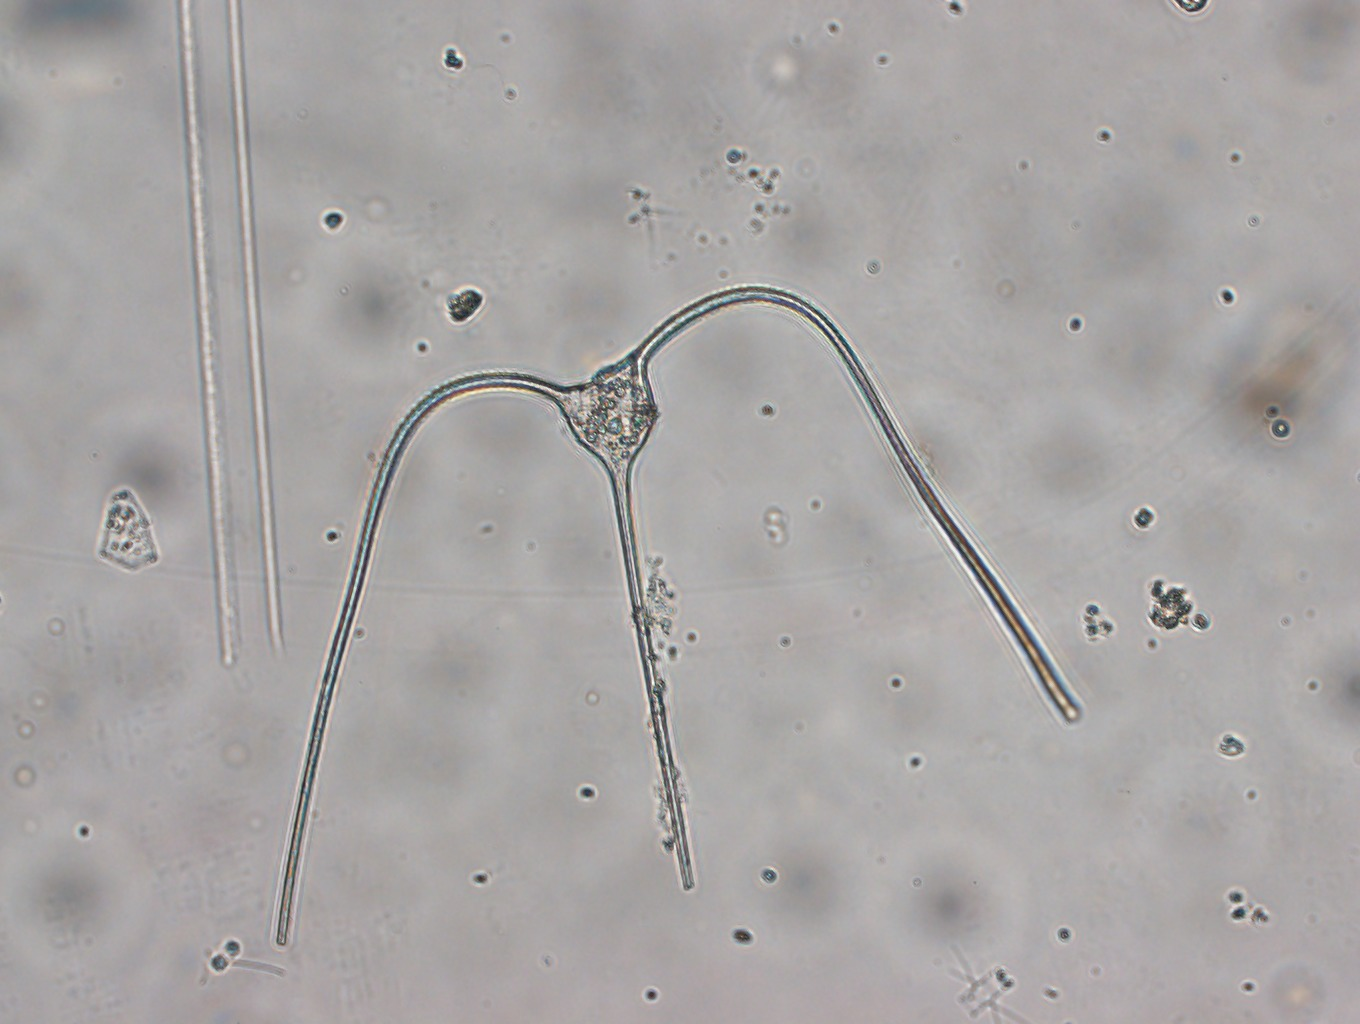ceratium trichoceros: (273, 283, 1085, 953)
